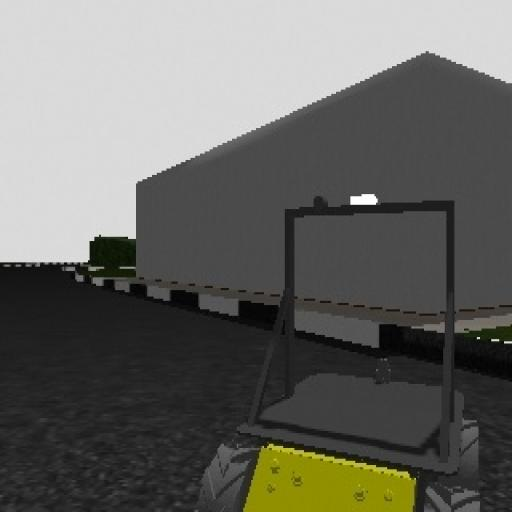huskya200: (146, 185, 487, 512)
